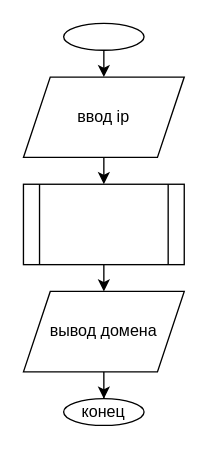
Image size: 208x449. Some labels were removed from this diagram. The box of each missing label's shape, as (x1, y1, x2, y2) in pixels:
gethostbyaddr: (22, 183, 184, 265)
начало: (62, 22, 144, 50)
